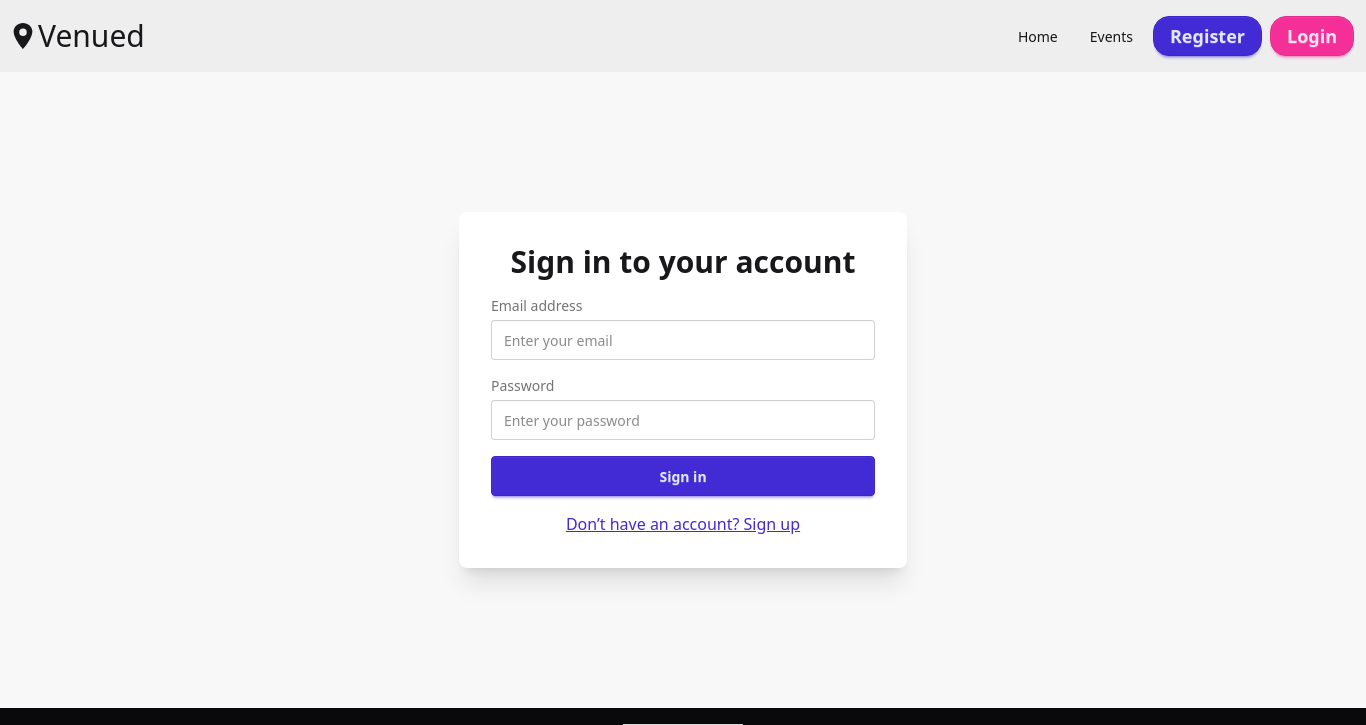
Test: auth flow: echte Formulare, Actions, Provider und Routen › zeigt eine abgelehnte Anmeldung und bleibt im Login
Type "ada@example.com" into the field labelled "Email address" at {"x": 683, "y": 340}, box [491,320,875,360]
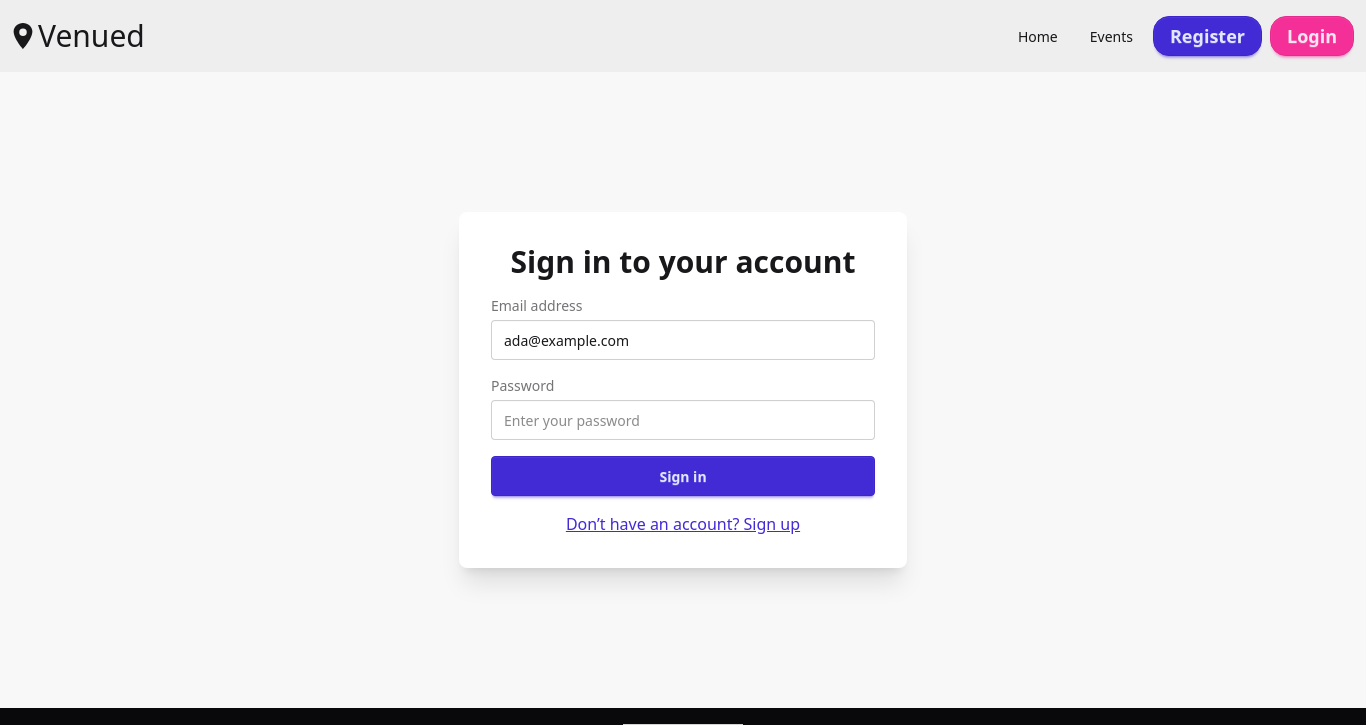
Type "password123" into the password field labelled "Password" at {"x": 683, "y": 420}, box [491,400,875,440]
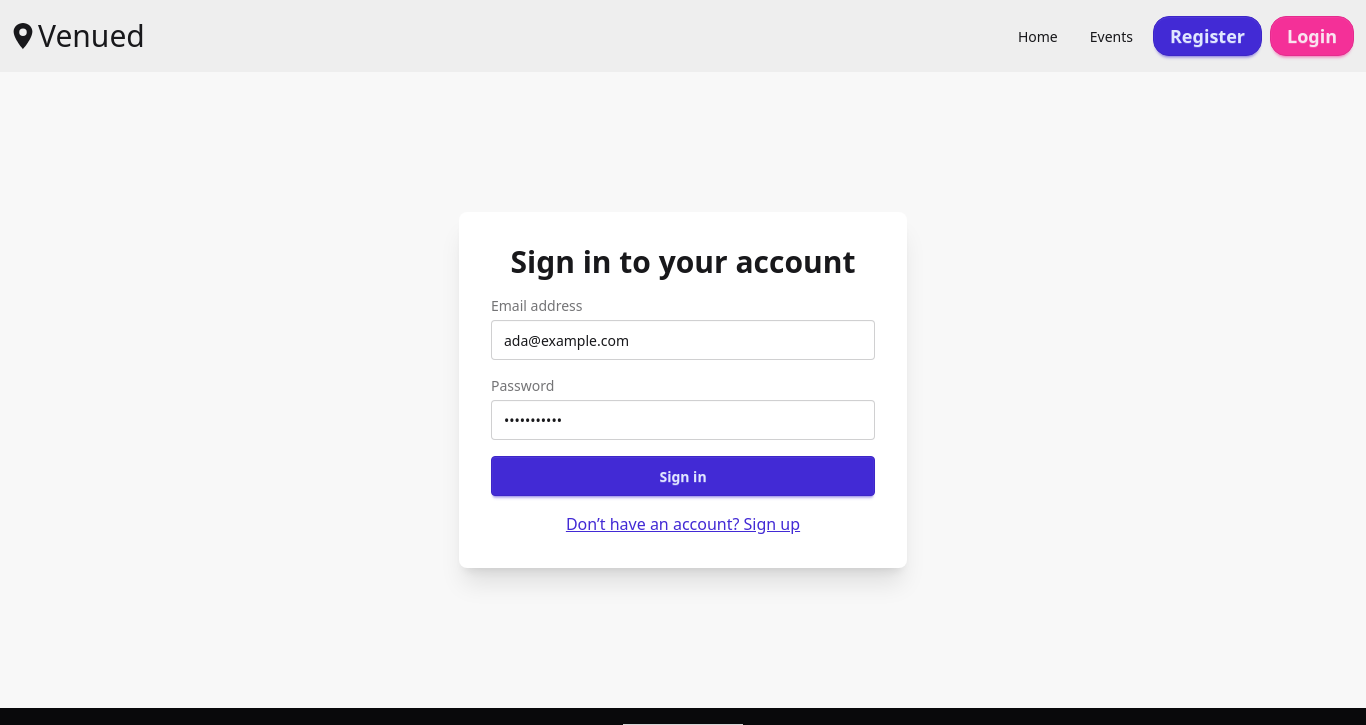
Click the button "Sign in" at {"x": 683, "y": 476}, box [491,456,875,496]
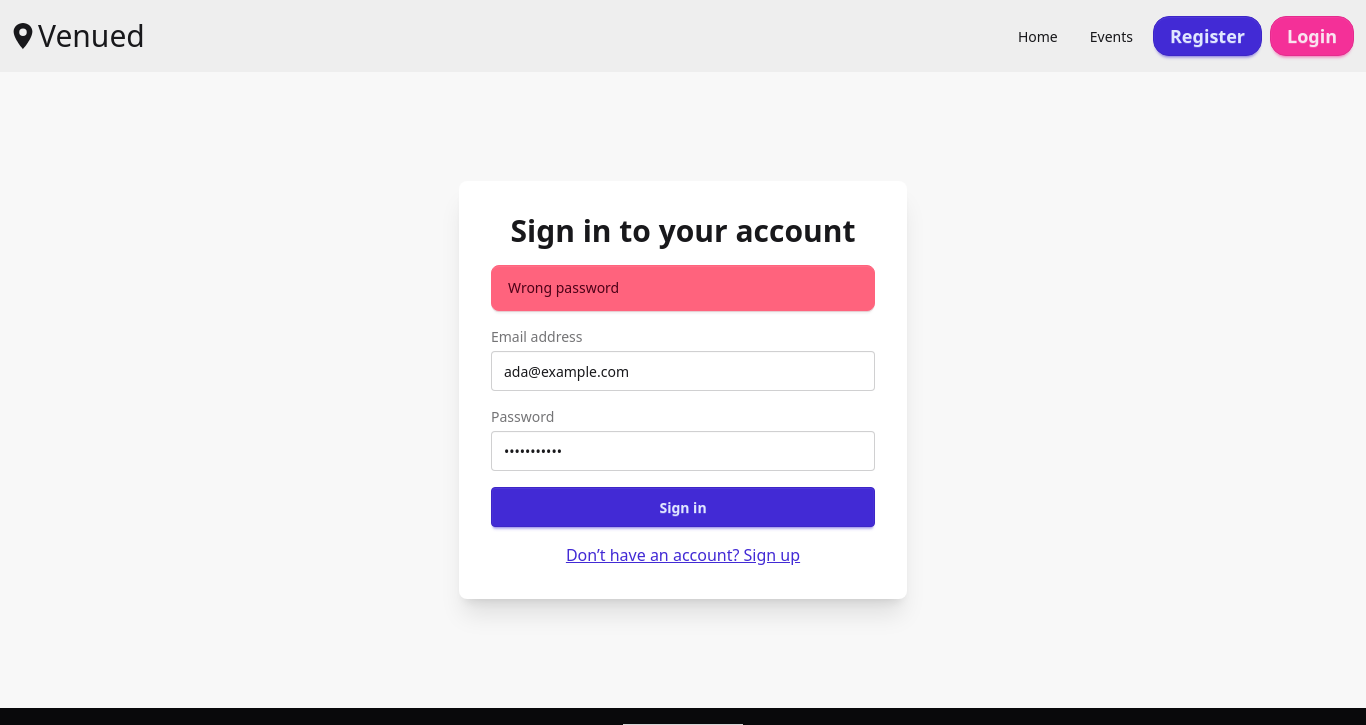
Result: the text "Wrong password" is shown at [508,278,619,298]
